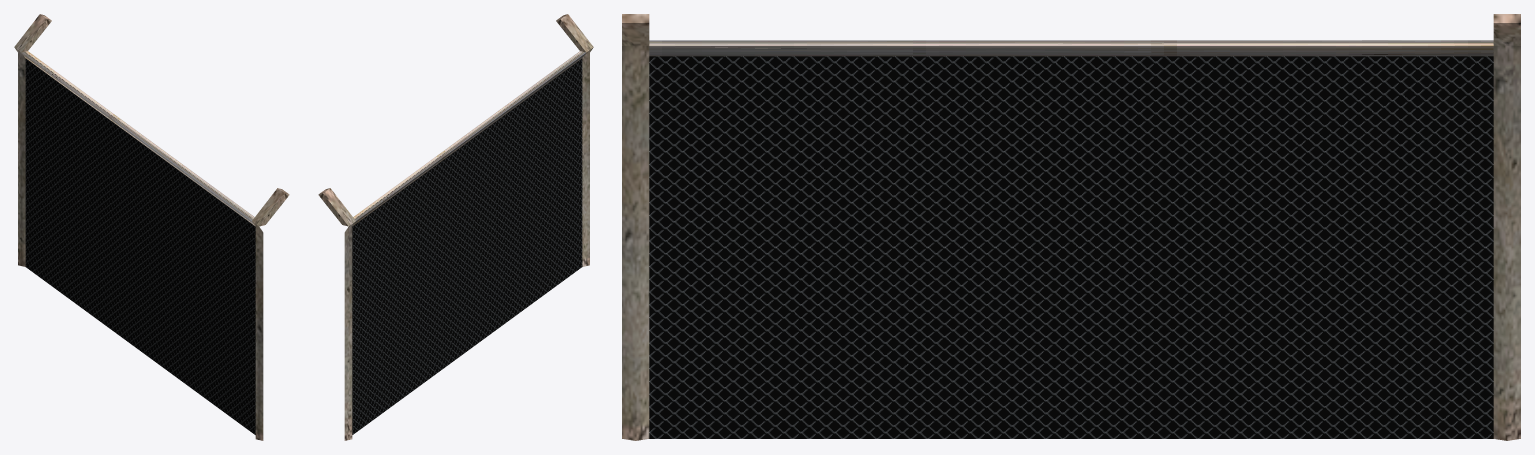
File: M11Z1_ChainFence_C2.glb
3 renders of one model, left to right at view 1: azimuth 30°, elevation 25°; view 2: azimuth 150°, elevation 25°; view 3: azimuth 270°, elevation 25°, orthographic. The views are drawn at different scales.
Visible parts, largest first — view 1: M11Z1_CHAINFENCE_C2; view 2: M11Z1_CHAINFENCE_C2; view 3: M11Z1_CHAINFENCE_C2.
Boxes of the visible parts, x1,y1,x2,y2 form: M11Z1_CHAINFENCE_C2: (14, 14, 289, 440); M11Z1_CHAINFENCE_C2: (318, 14, 593, 440); M11Z1_CHAINFENCE_C2: (622, 14, 1520, 440).
Size of the model in its own units: 0.594 by 4.5 by 8.25.
3 materials, 3 textured.
